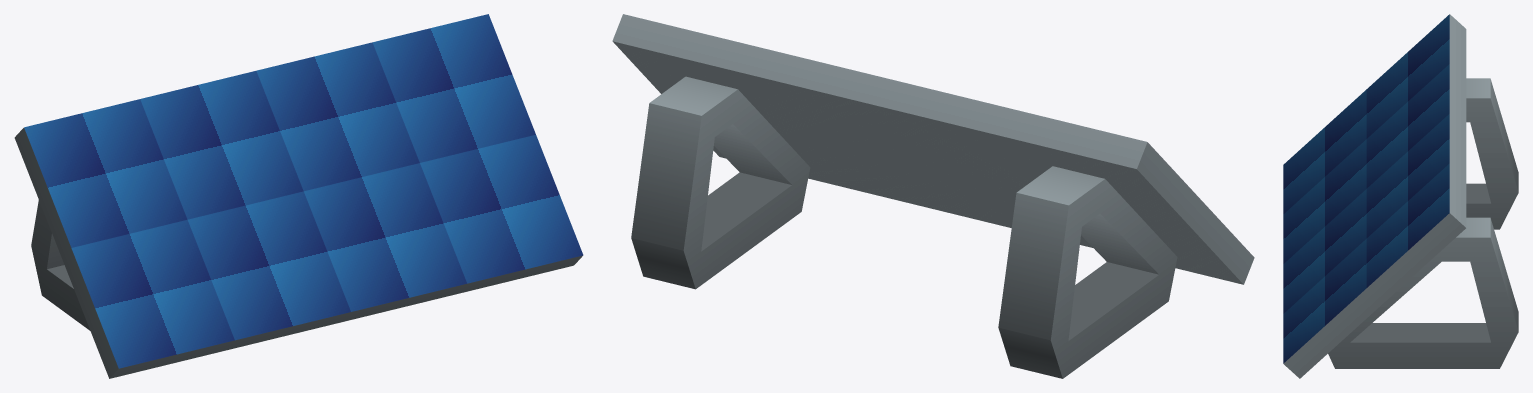
The model's file is kk_solarpanel.glb.
3 renders of one model, left to right at view 1: azimuth 30°, elevation 25°; view 2: azimuth 150°, elevation 25°; view 3: azimuth 270°, elevation 25°, orthographic. The views are drawn at different scales.
Visible parts, largest first — view 1: solarpanel; view 2: solarpanel; view 3: solarpanel.
Boxes of the visible parts, x1,y1,x2,y2 form: solarpanel: (14,14,583,378); solarpanel: (612,14,1254,378); solarpanel: (1283,14,1518,378).
Bounding box in the file's own units: 5.34 × 2.2 × 2.67.
1 material, 1 textured.
